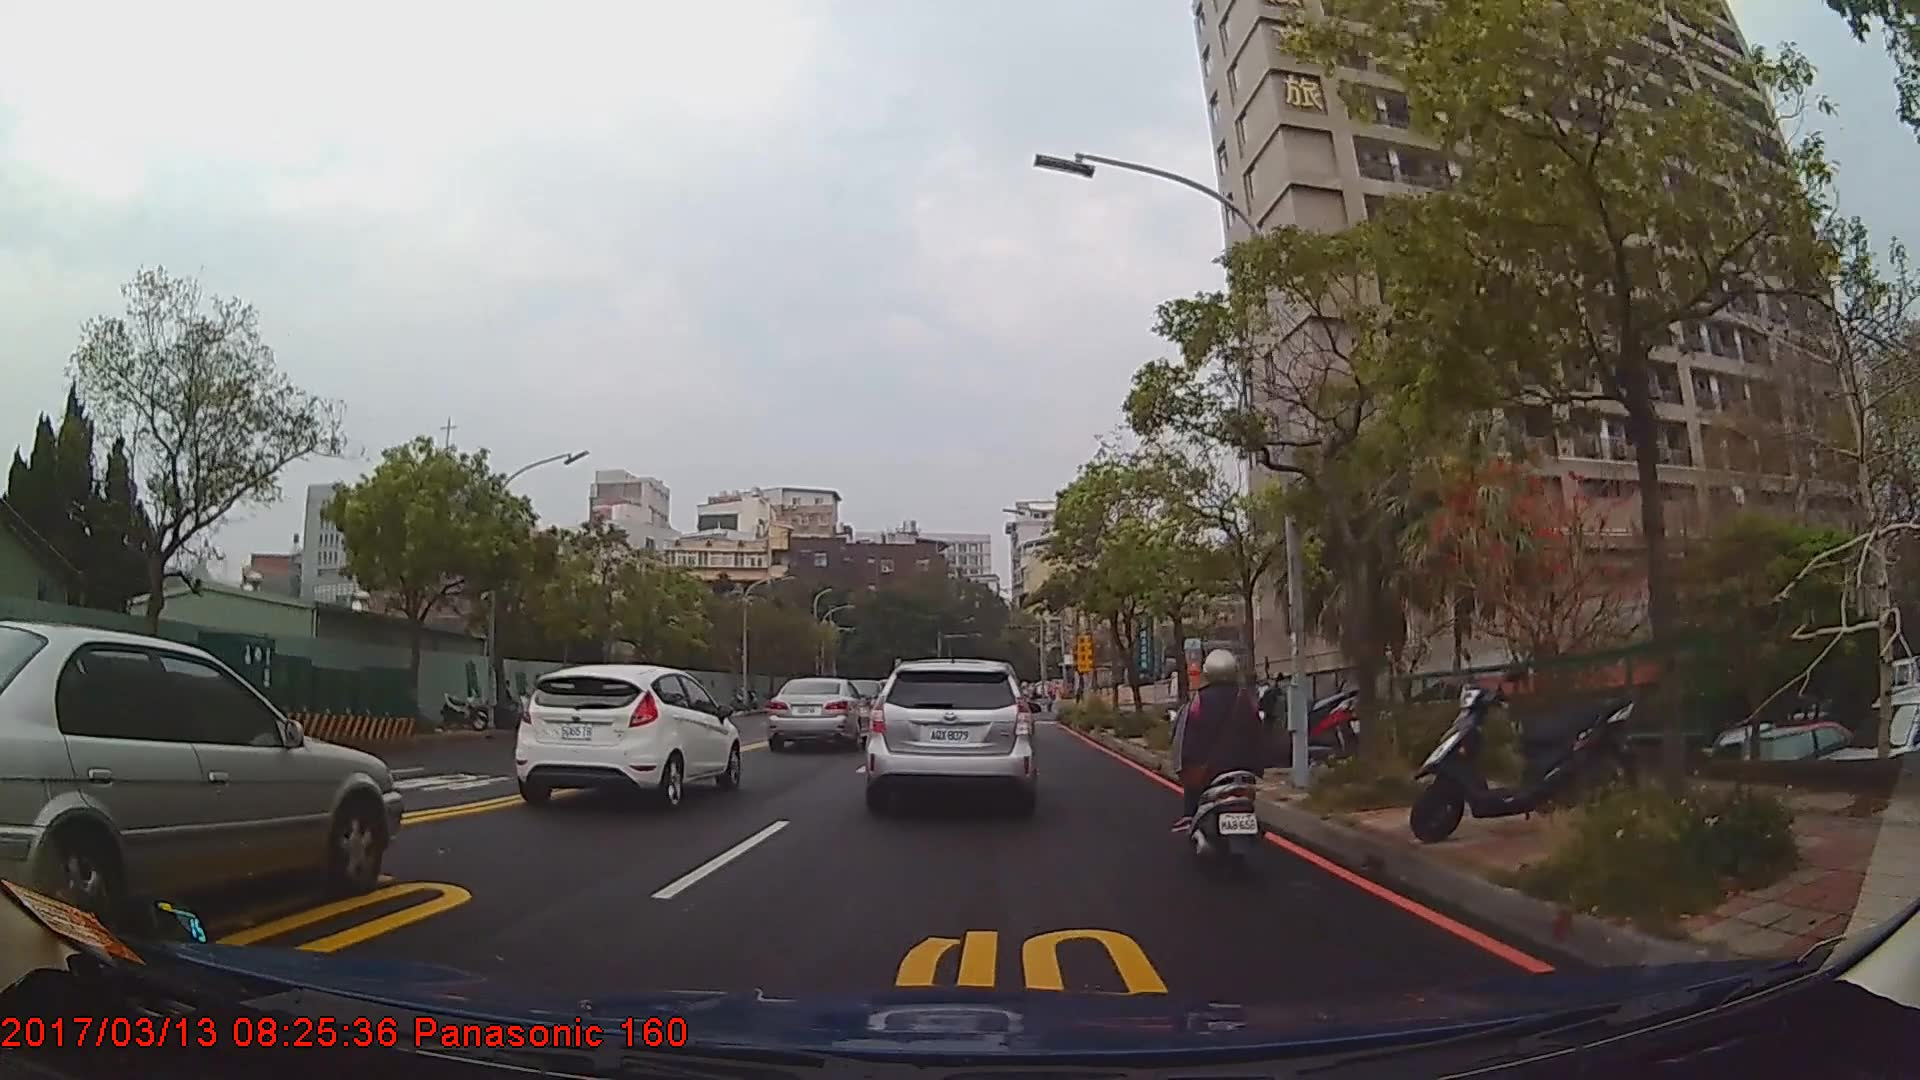rider: (1170, 647, 1268, 878)
vehicle: (0, 617, 402, 942), (512, 662, 739, 814), (865, 657, 1036, 818), (767, 673, 872, 753)
